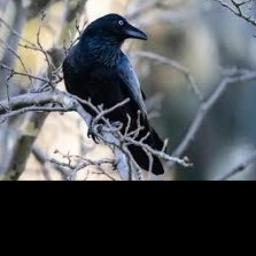Crow: (62, 13, 168, 176)
